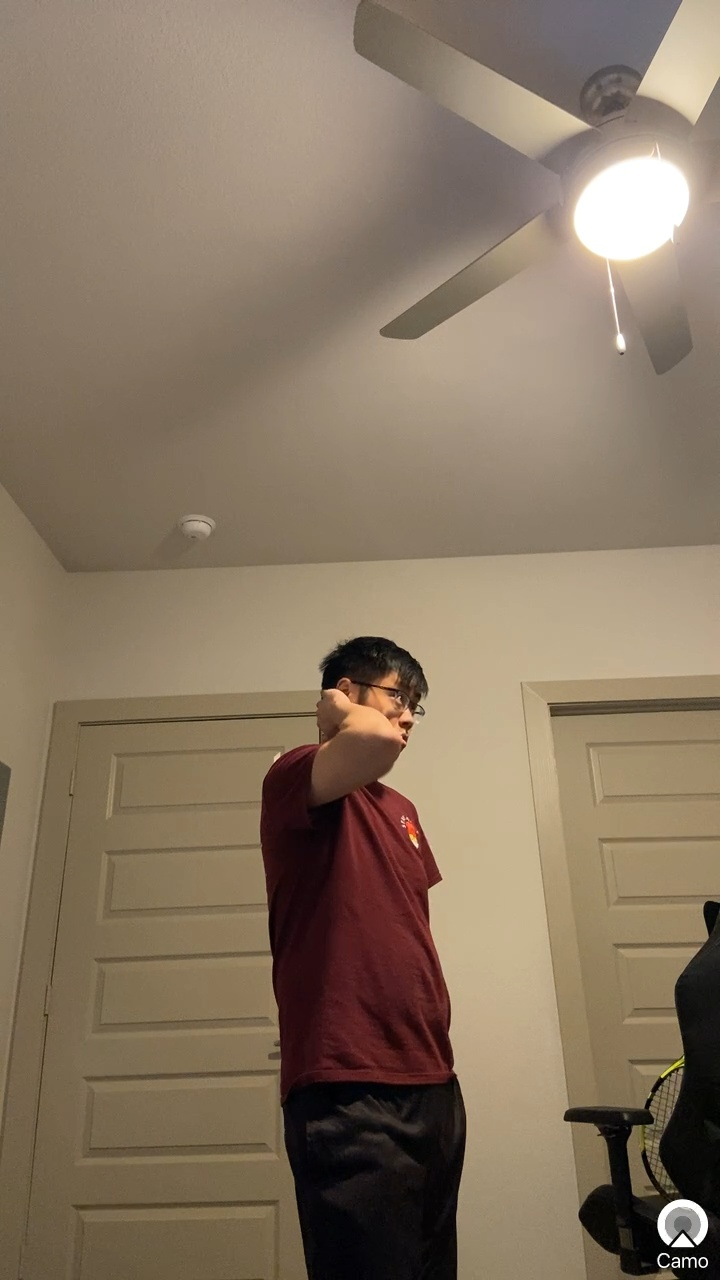Person: (225, 620, 510, 1280)
